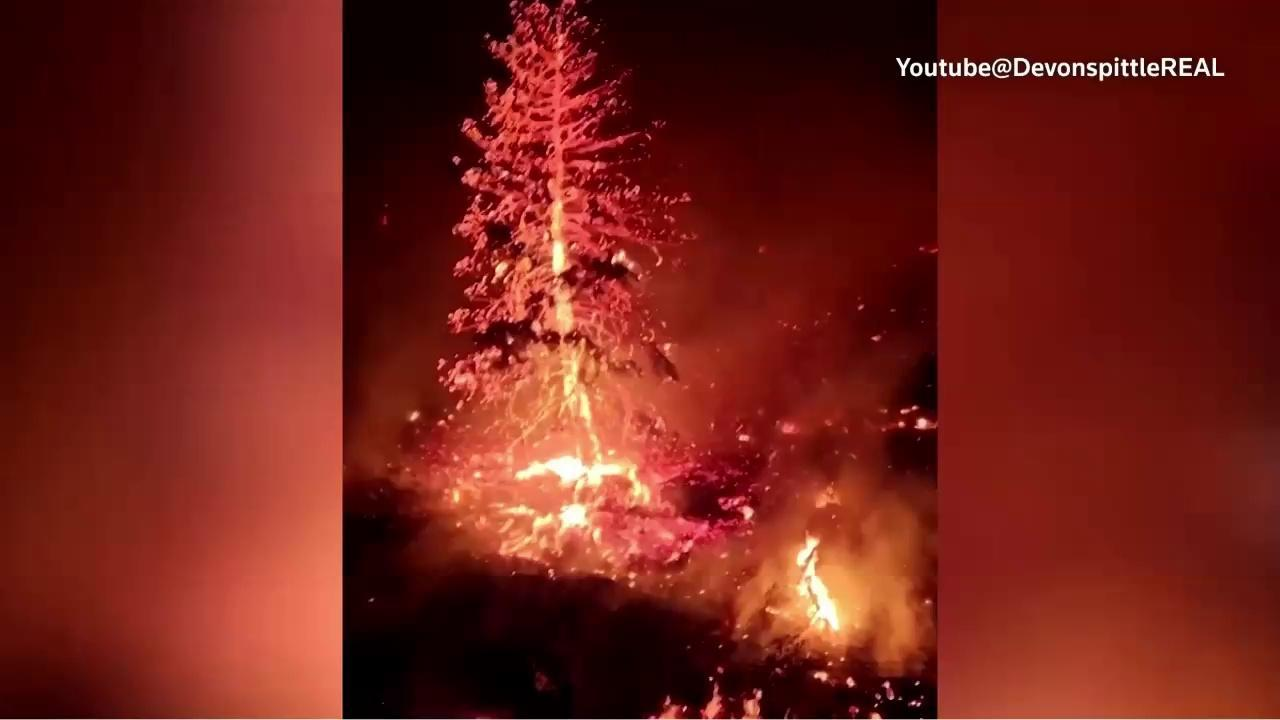fire: (430, 0, 764, 586), (783, 524, 859, 667), (646, 692, 689, 719), (698, 677, 723, 720), (739, 686, 767, 720), (911, 417, 938, 432), (811, 669, 829, 683), (846, 704, 860, 720), (844, 674, 858, 688), (869, 711, 885, 720)
smoke: (343, 1, 937, 689)
